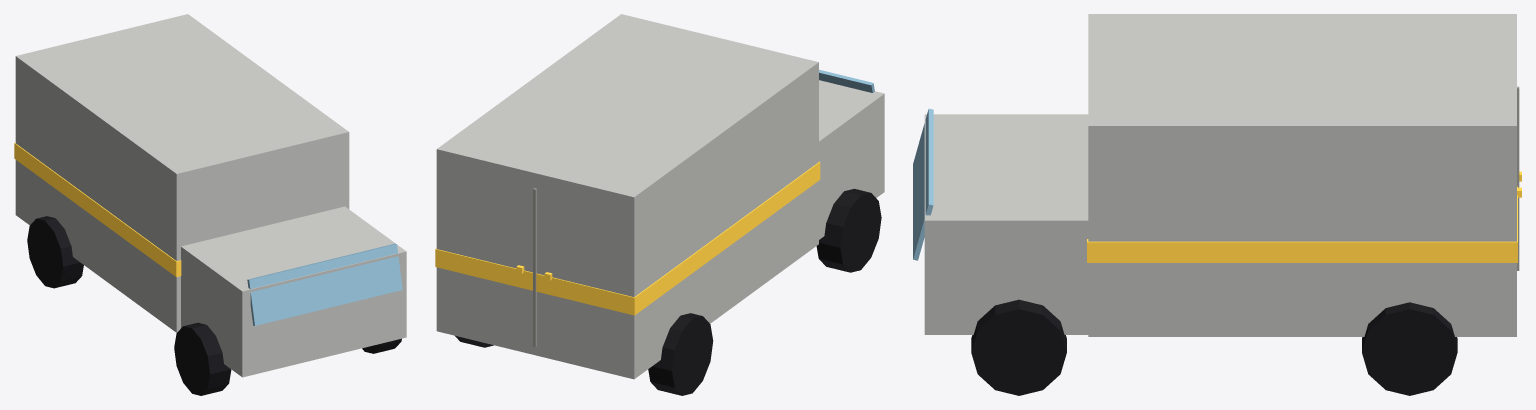
Rendered from art_van.glb.
The picture shows the model from 3 angles, left to right: view 1: azimuth 30°, elevation 25°; view 2: azimuth 150°, elevation 25°; view 3: azimuth 270°, elevation 25°; orthographic projection. The views are drawn at different scales.
Visible parts, largest first — view 1: body_van_white, glass_car_glass, wheels_tire (×2), stripe_gold; view 2: body_van_white, wheels_tire (×2), stripe_gold, doors_door_line, glass_car_glass; view 3: body_van_white, wheels_tire (×2), stripe_gold, glass_car_glass.
Part boxes in pixels (box(x1,y1,x2,y2)): body_van_white: box(15, 14, 406, 377); glass_car_glass: box(247, 243, 402, 325); wheels_tire (×2): box(27, 216, 231, 395); stripe_gold: box(14, 143, 181, 276); body_van_white: box(436, 14, 884, 379); wheels_tire (×2): box(648, 188, 881, 395); stripe_gold: box(435, 161, 820, 315); doors_door_line: box(533, 188, 536, 346); glass_car_glass: box(819, 69, 874, 92); body_van_white: box(924, 14, 1516, 336); wheels_tire (×2): box(971, 299, 1457, 395); stripe_gold: box(1087, 186, 1517, 262); glass_car_glass: box(913, 108, 933, 260).
Bounding box in the file's own units: 2.36 × 2.31 × 4.83.
